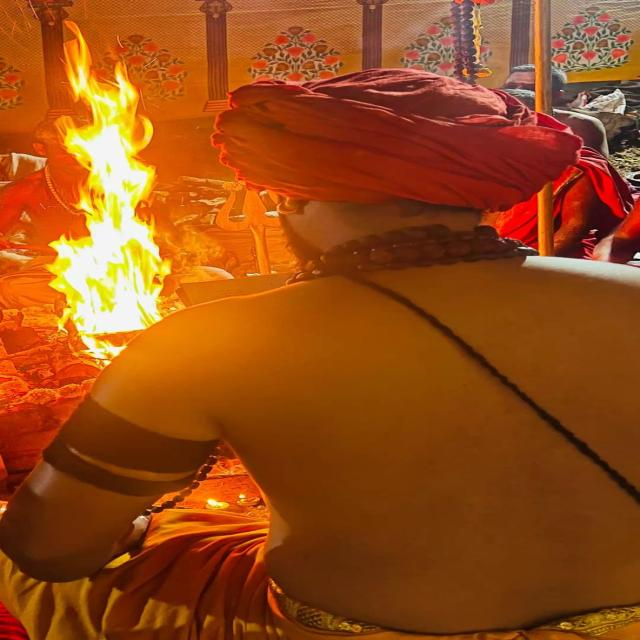fire: (48, 21, 172, 362)
